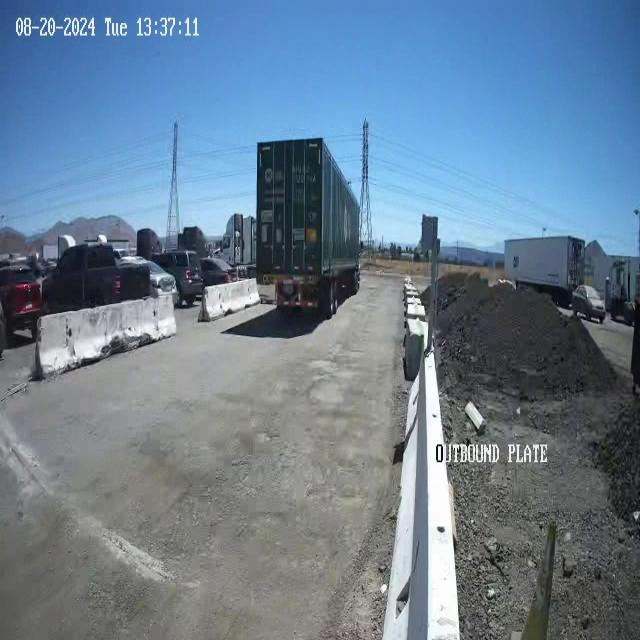TRUCK_CONTAINER: (255, 136, 361, 318)
